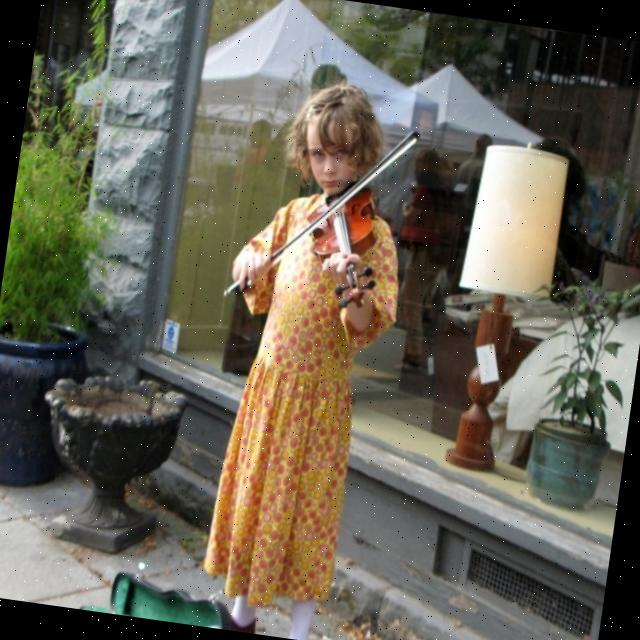violin: (294, 177, 392, 318)
